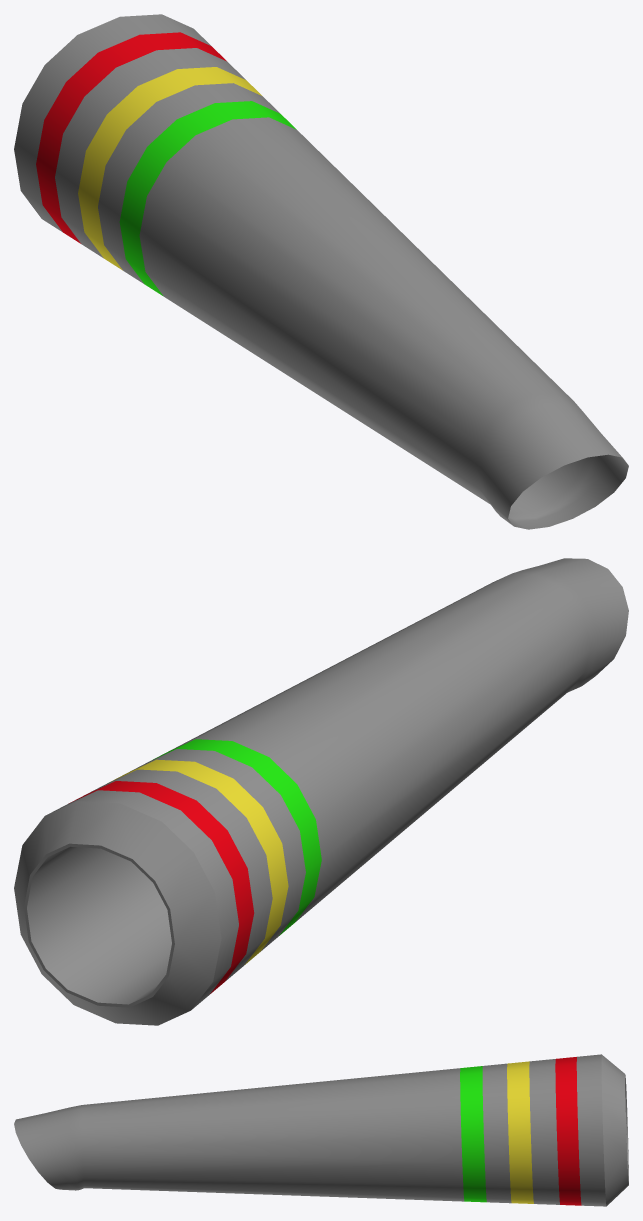
Rendered from InputSocket3.fbx.
3 renders of one model, top to bottom at view 1: azimuth 30°, elevation 25°; view 2: azimuth 150°, elevation 25°; view 3: azimuth 270°, elevation 25°, orthographic. The views are drawn at different scales.
Parts seen in each view (by area): view 1: Socket.001; view 2: Socket.001; view 3: Socket.001.
Part boxes in pixels (<box>): Socket.001: <box>14,14,628,529</box>; Socket.001: <box>14,558,628,1025</box>; Socket.001: <box>14,1054,628,1206</box>.
Bounding box in the file's own units: 0.7468 × 0.7464 × 3.05.
